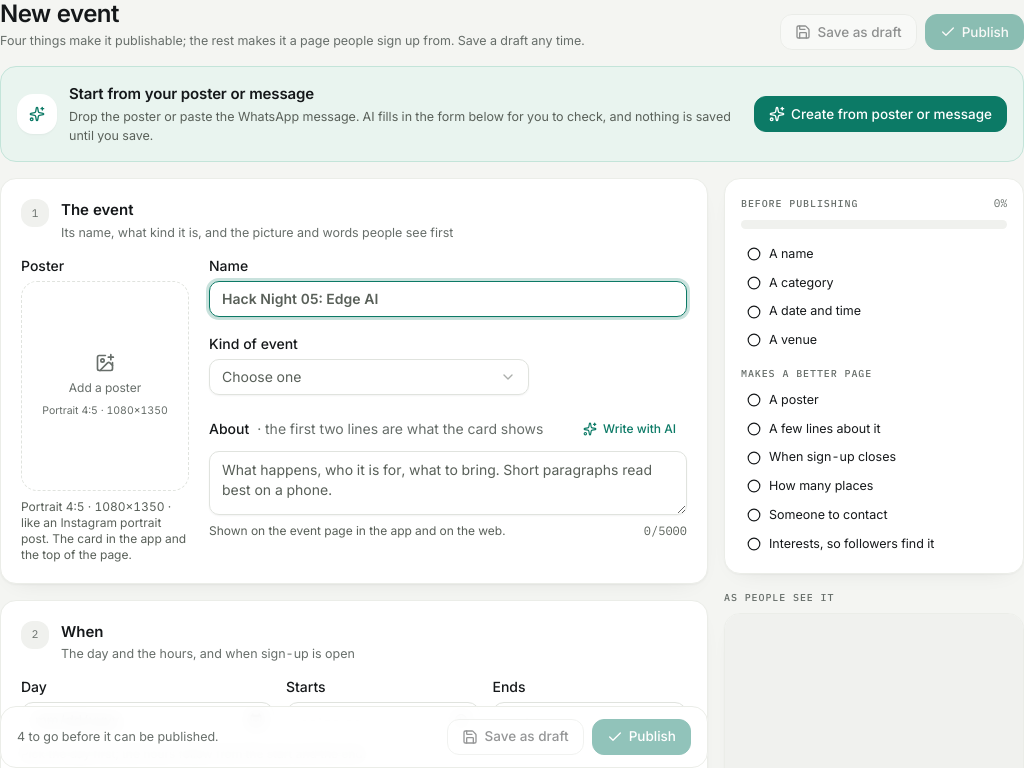
Create from poster or message › explains a spent month, and leaves the form as it was
Step 1. Click the button "Create from poster or message" → coordinates (881, 114), box [754,96,1007,132]
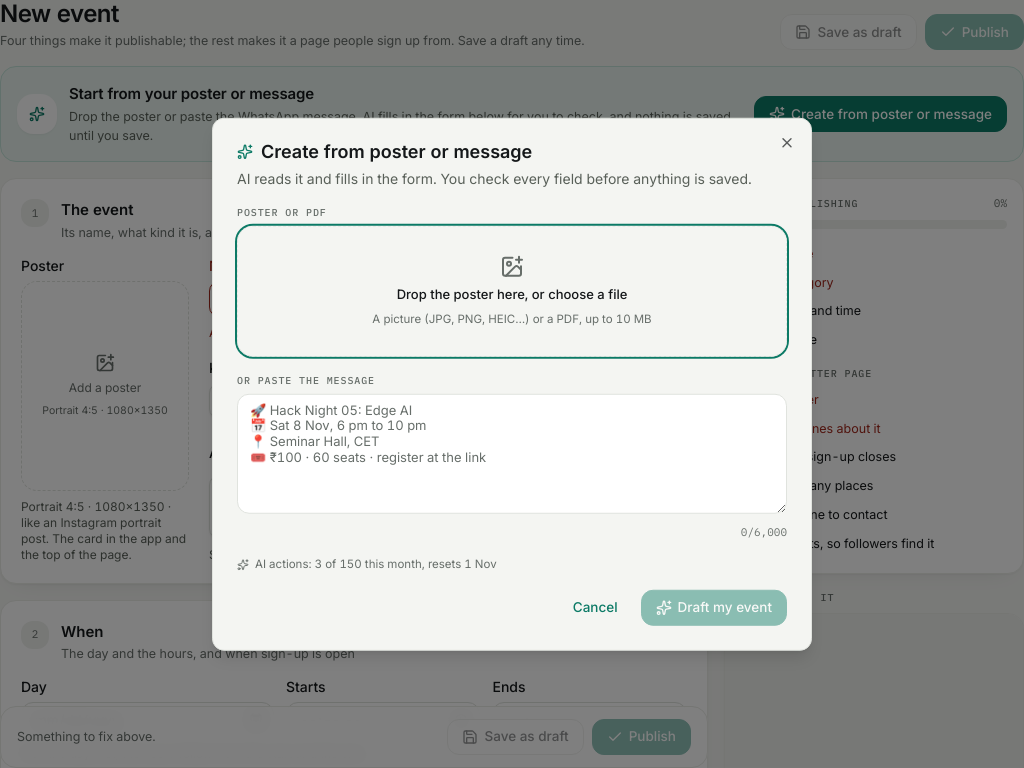
Step 2. Replace the text in the text box labelled "Or paste the message" with "Hack night" → coordinates (512, 454), box [237,394,787,514]
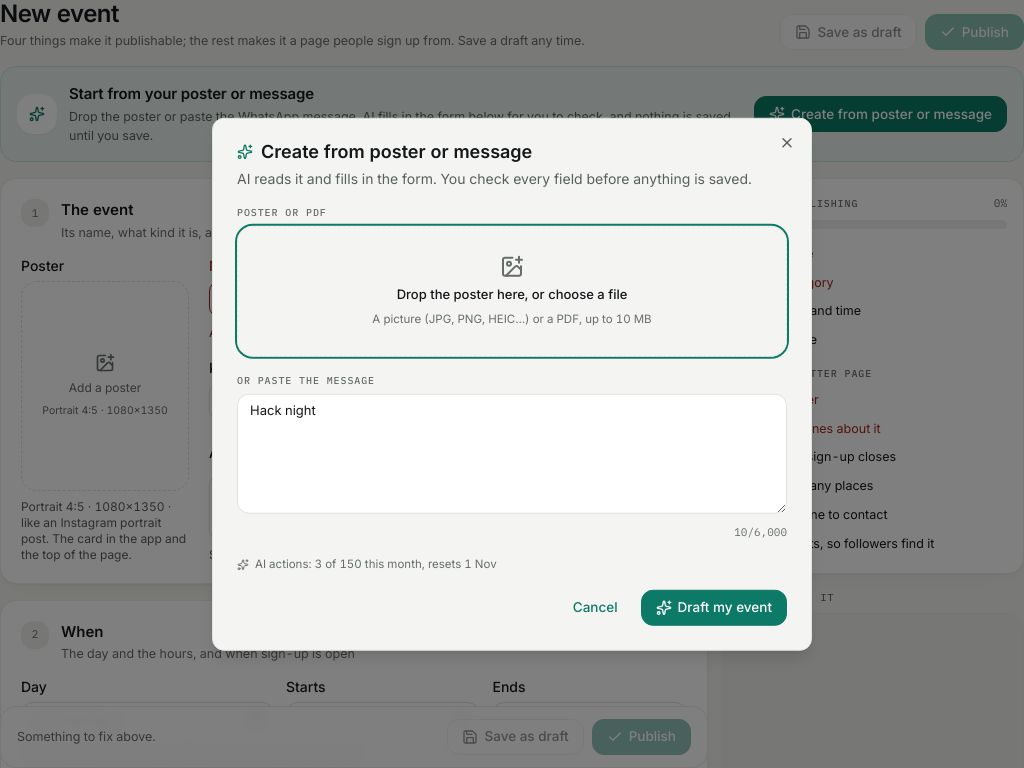
Step 3. Click the button "Draft my event" → coordinates (714, 607), box [641,589,787,625]
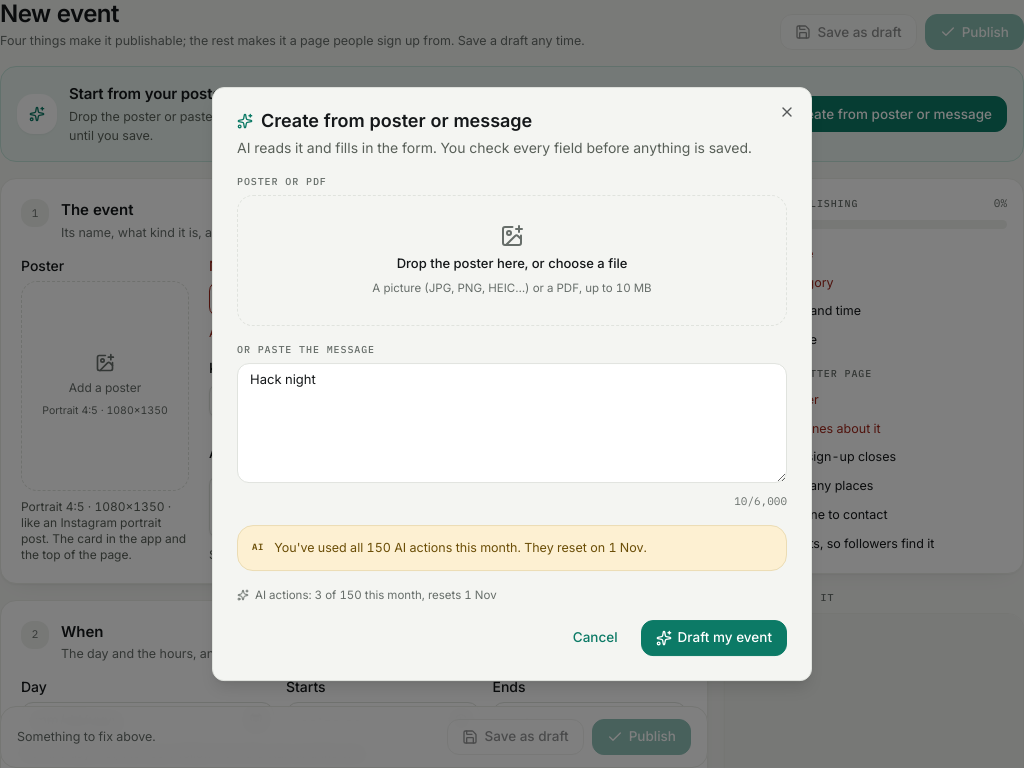
expect the field named "name" is empty: met, box [209,281,687,317]
expect the message shows "You've used all 150 AI actions this month. They reset on 1 Nov.": met, box [274,540,647,555]
